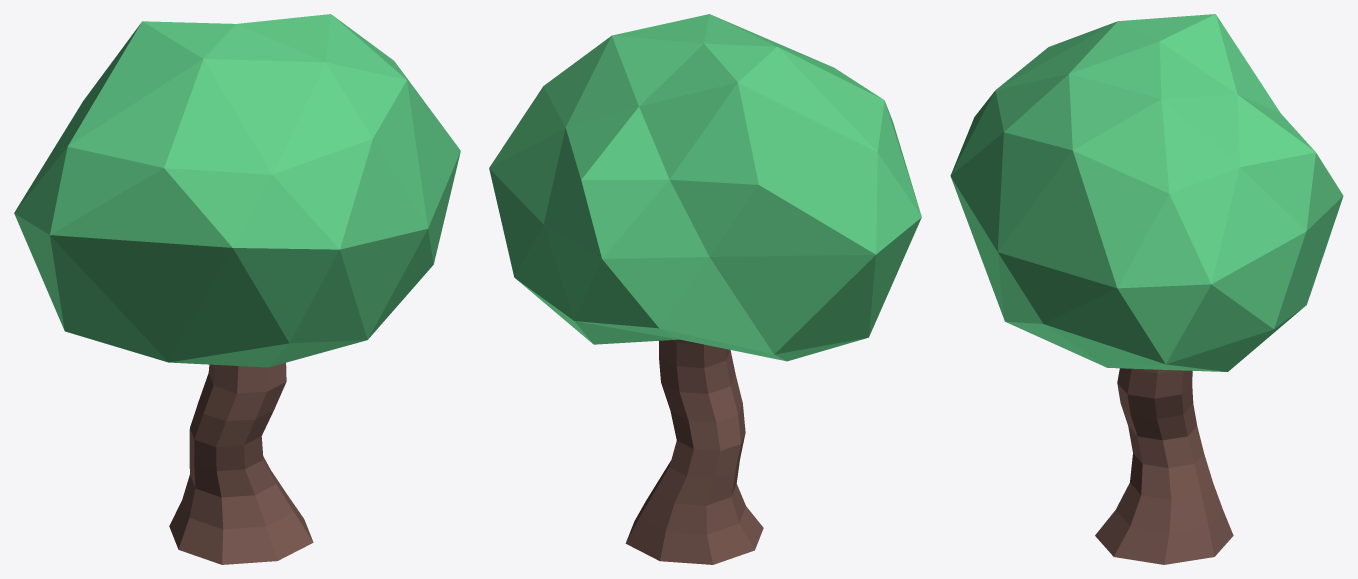
File: drzewo_4.fbx
3 renders of one model, left to right at view 1: azimuth 30°, elevation 25°; view 2: azimuth 150°, elevation 25°; view 3: azimuth 270°, elevation 25°, orthographic. The views are drawn at different scales.
Visible parts, largest first — view 1: Cube.004; view 2: Cube.004; view 3: Cube.004.
Boxes of the visible parts, x1=… form: Cube.004: x1=14, y1=14, x2=460, y2=564; Cube.004: x1=489, y1=14, x2=921, y2=564; Cube.004: x1=950, y1=14, x2=1343, y2=564.
Size of the model in its own units: 1804 by 2164 by 1571.
